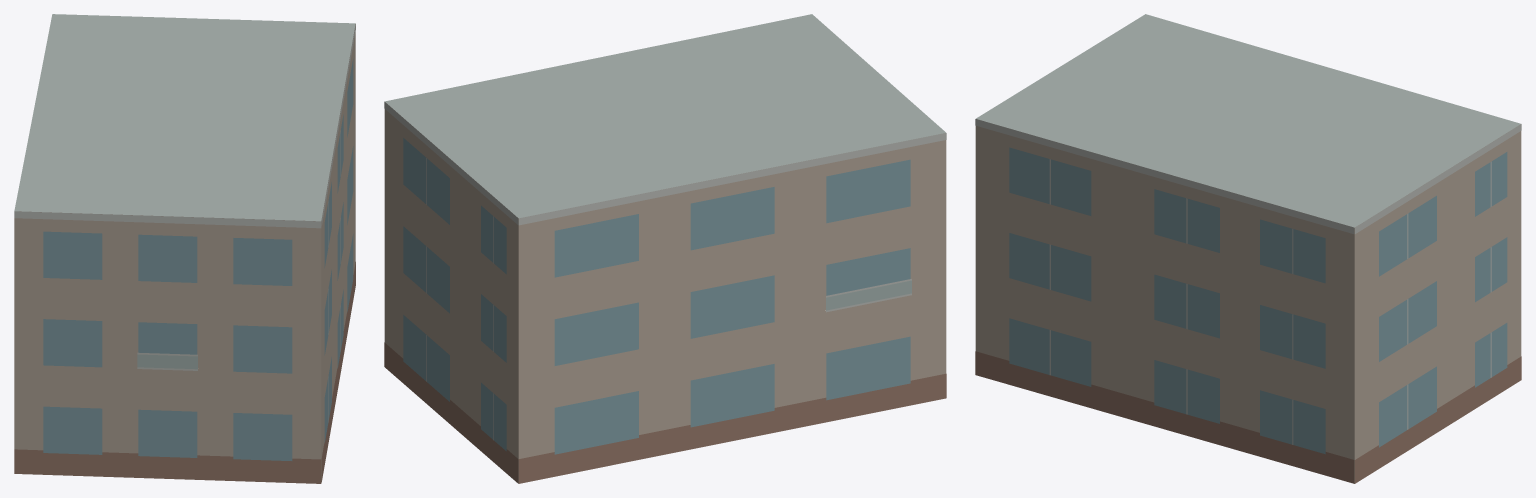
File: survey-upis-32698832.glb
3 renders of one model, left to right at view 1: azimuth 30°, elevation 25°; view 2: azimuth 150°, elevation 25°; view 3: azimuth 270°, elevation 25°, orthographic. The views are drawn at different scales.
Parts seen in each view (by area): view 1: survey-upis-32698832.tmp; view 2: survey-upis-32698832.tmp; view 3: survey-upis-32698832.tmp.
Boxes of the visible parts, bbox=[...] form: survey-upis-32698832.tmp: bbox=[14, 14, 355, 483]; survey-upis-32698832.tmp: bbox=[384, 14, 946, 483]; survey-upis-32698832.tmp: bbox=[975, 14, 1521, 483].
Size of the model in its own units: 16.37 by 9.15 by 17.67.
